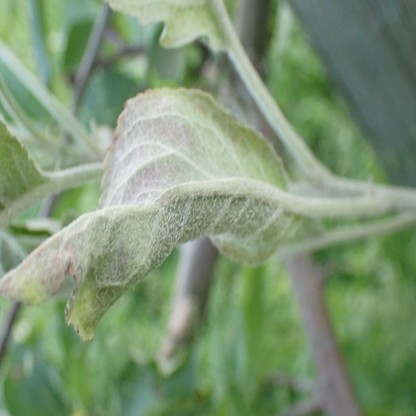powdery_mildew: (0, 87, 293, 343), (109, 1, 227, 51)
